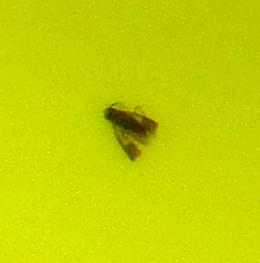Hemiptera: (100, 100, 160, 163)
